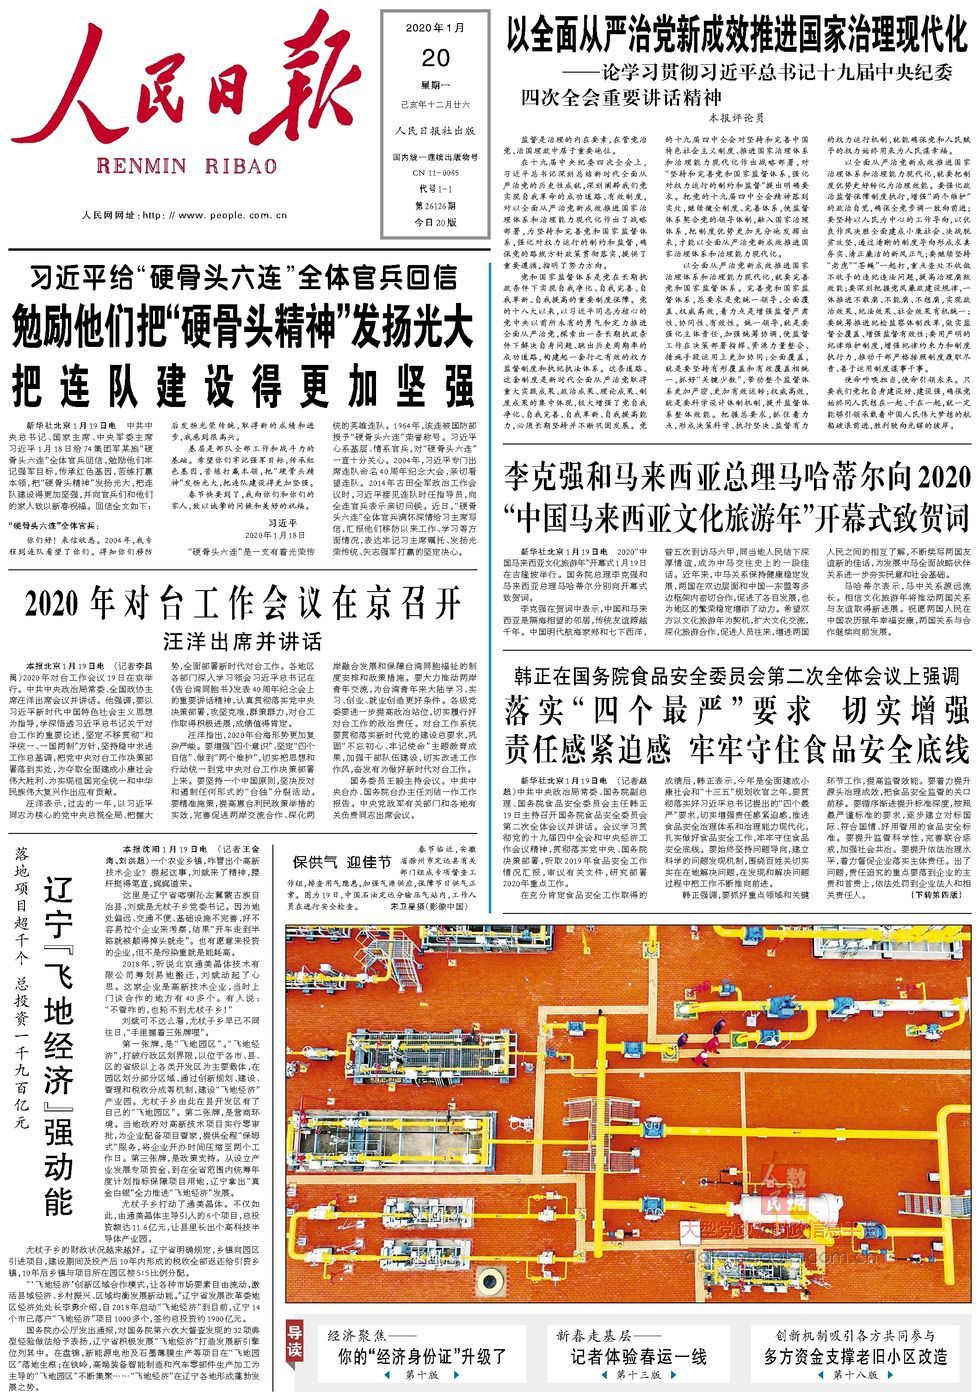pic: (281, 920, 980, 1309)
